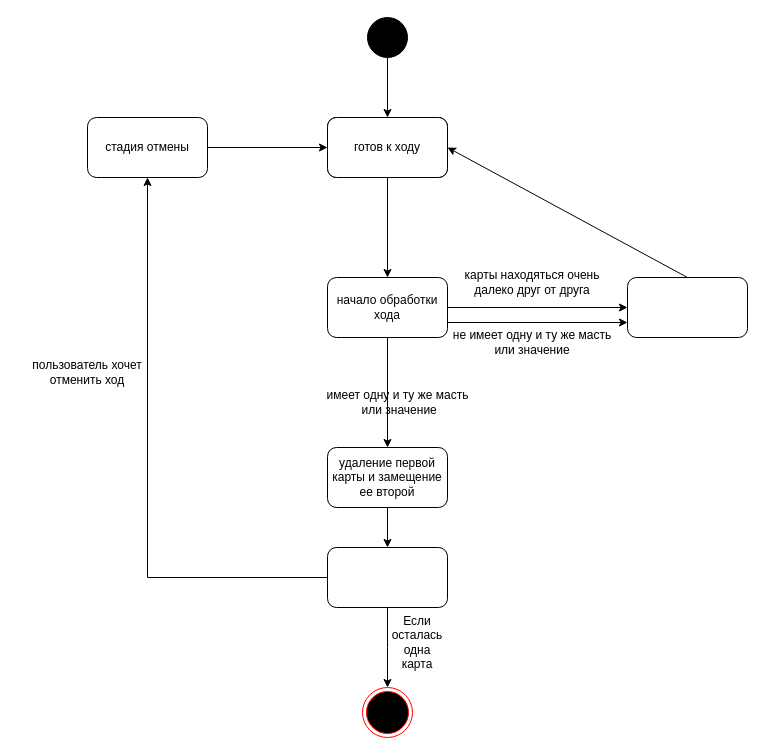
Image size: 765x755. Some labels were removed from this diagram. The shapes that lost their labels are listed below. From the top down, each one's box as (x1, y1, x2, y2) in pixels, then its label:
(626, 276, 748, 338): не валидный ход
(326, 546, 448, 608): Ход сделан
